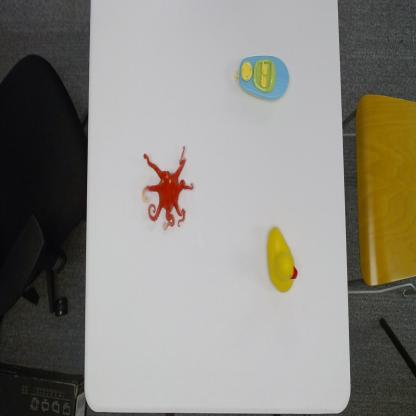Boat: (234, 53, 290, 102)
Duck: (266, 224, 299, 294)
Octopus: (141, 143, 194, 231)
